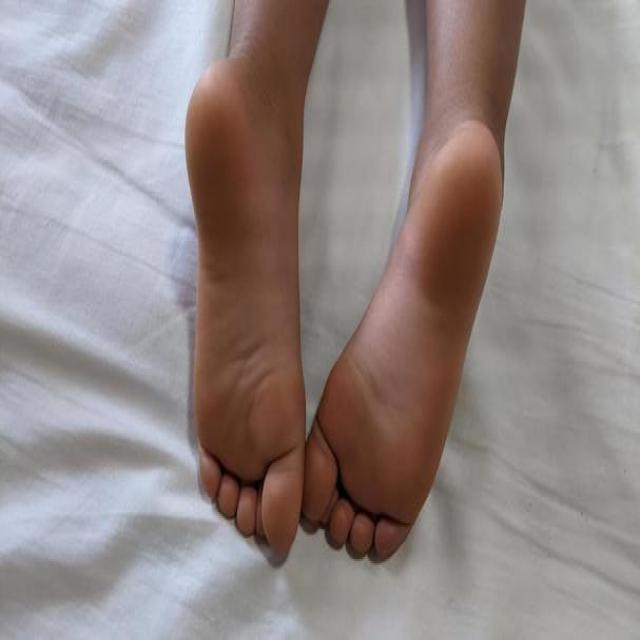Barefoots: (300, 112, 510, 570), (177, 48, 308, 560)
